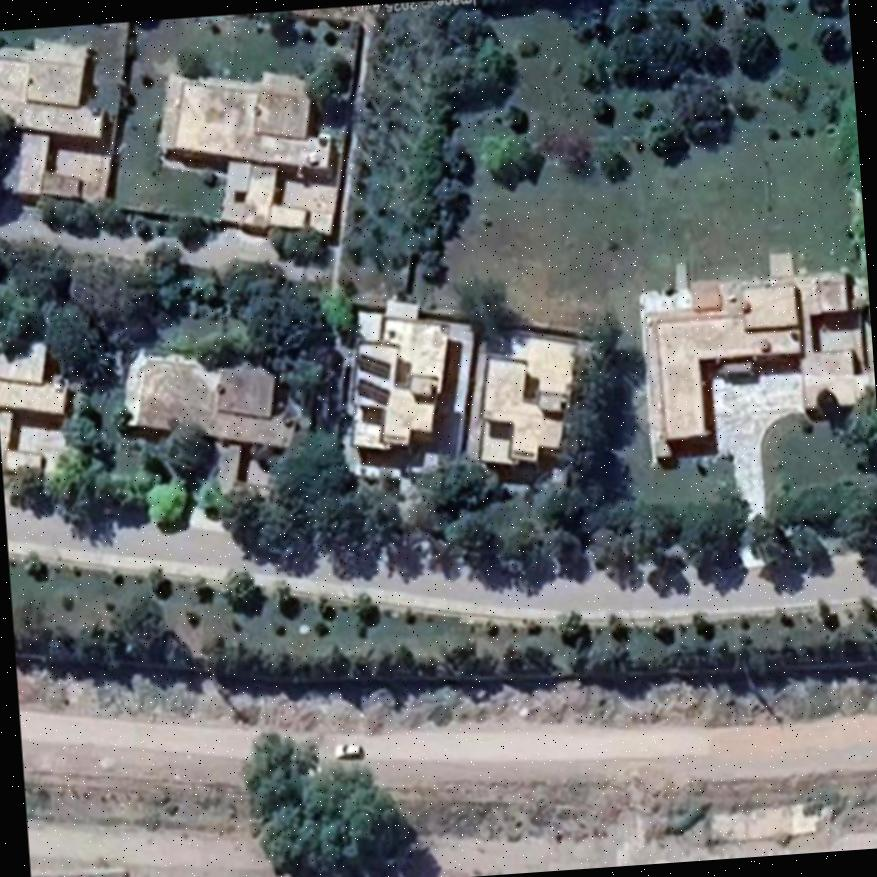Solarpanel: (358, 380, 392, 404), (355, 357, 387, 381)
